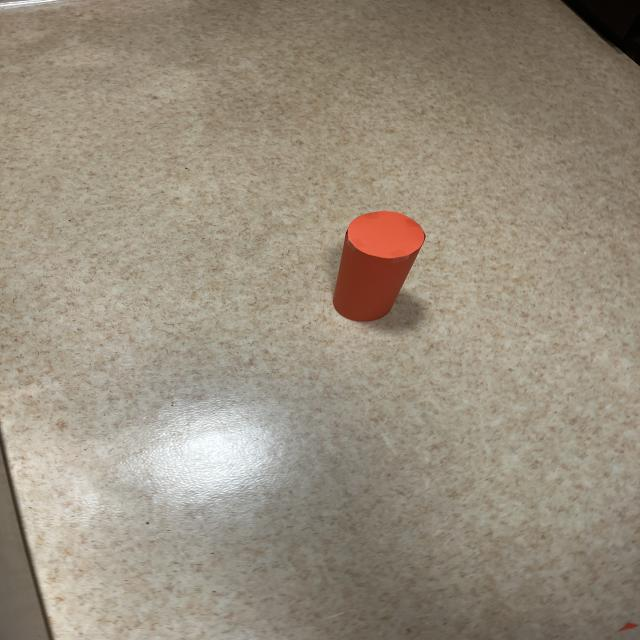przeszkoda: (333, 211, 425, 321)
